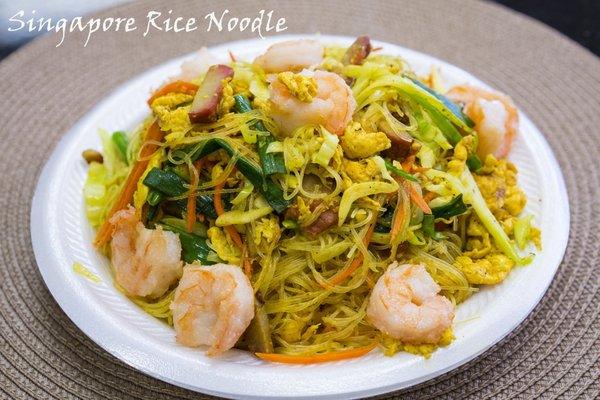curry: (1, 0, 596, 396)
pizza: (106, 144, 163, 222)
